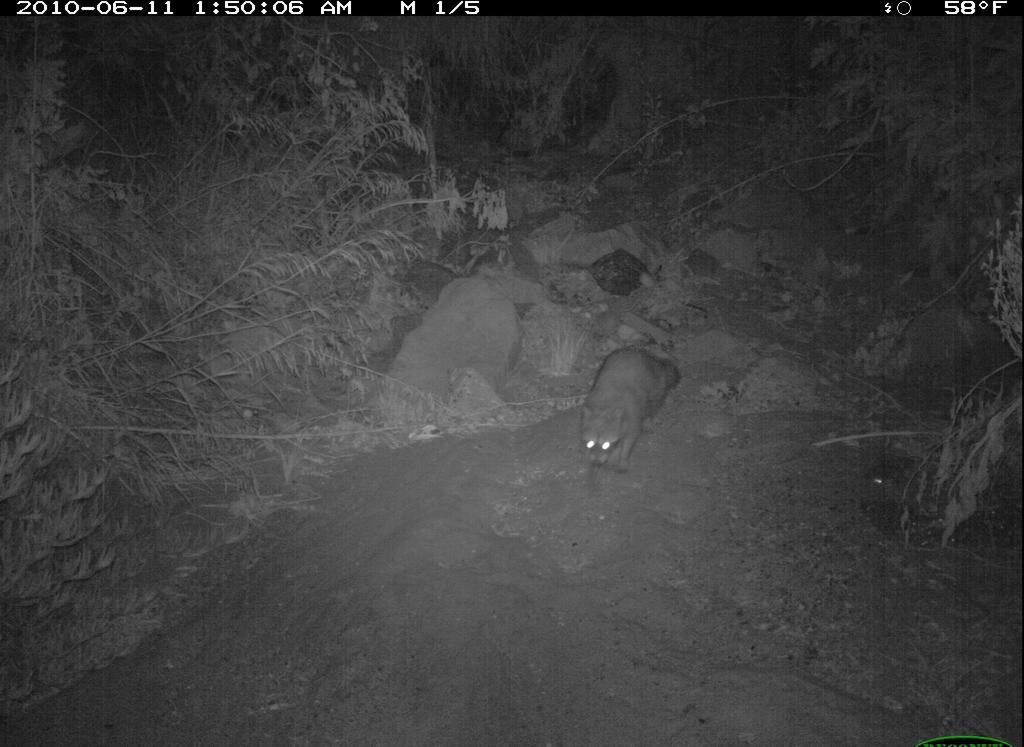raccoon: (568, 335, 693, 486)
